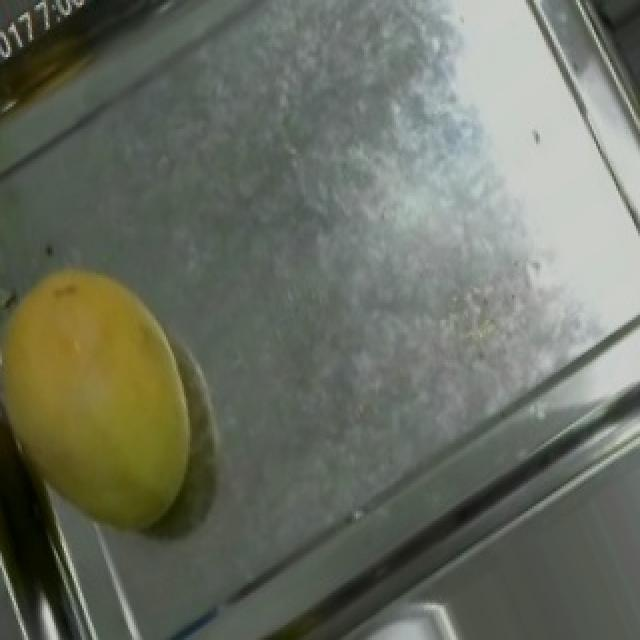fruit: (0, 206, 272, 573)
